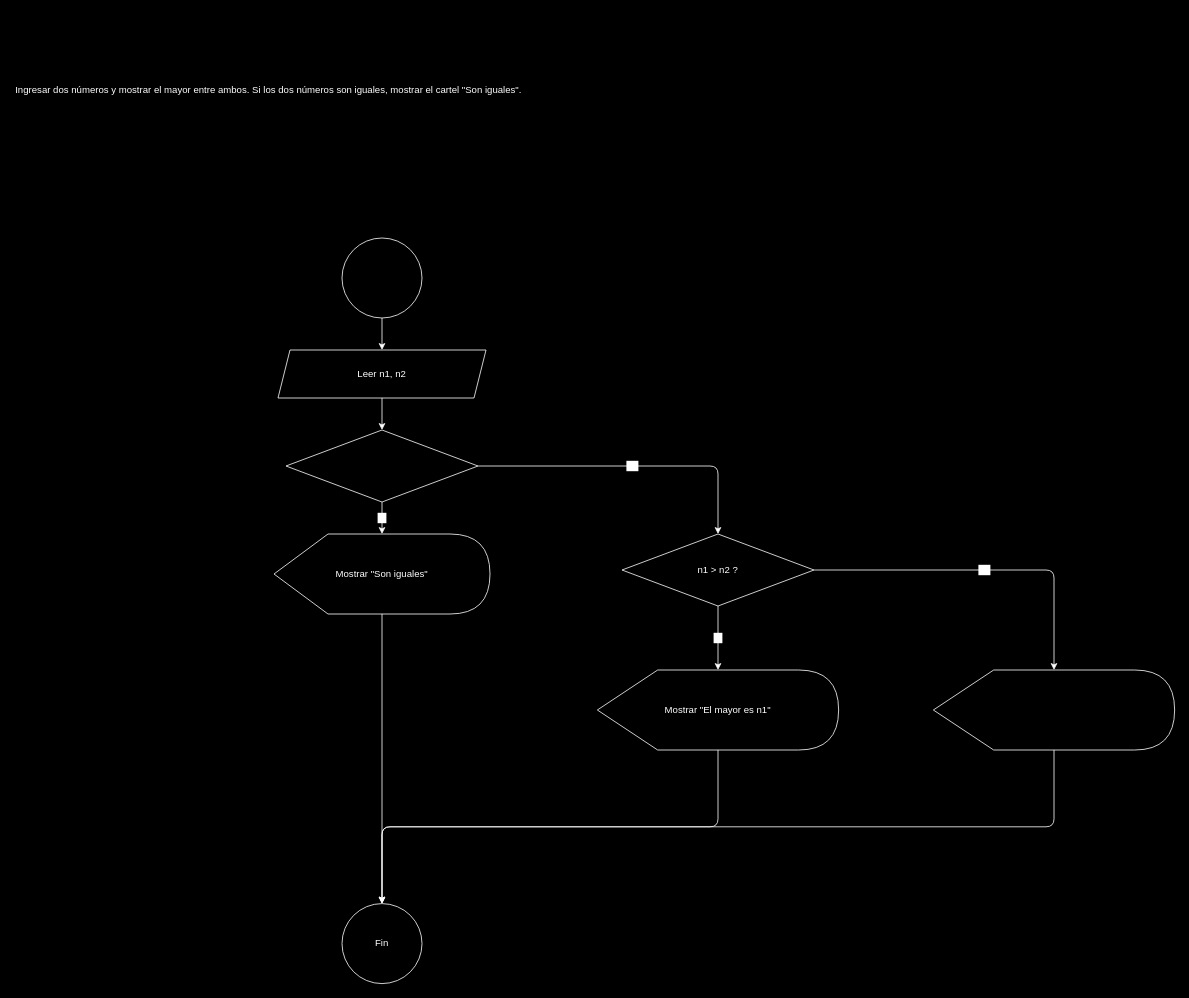
Some shapes in this 1189 by 998 pixel diagram are drawn without their labels. Each missing label, with the box of its shape:
Inicio: (341, 237, 422, 318)
Mostrar "El mayor es n2": (933, 669, 1175, 750)
n1 = n2 ?: (285, 429, 478, 502)
